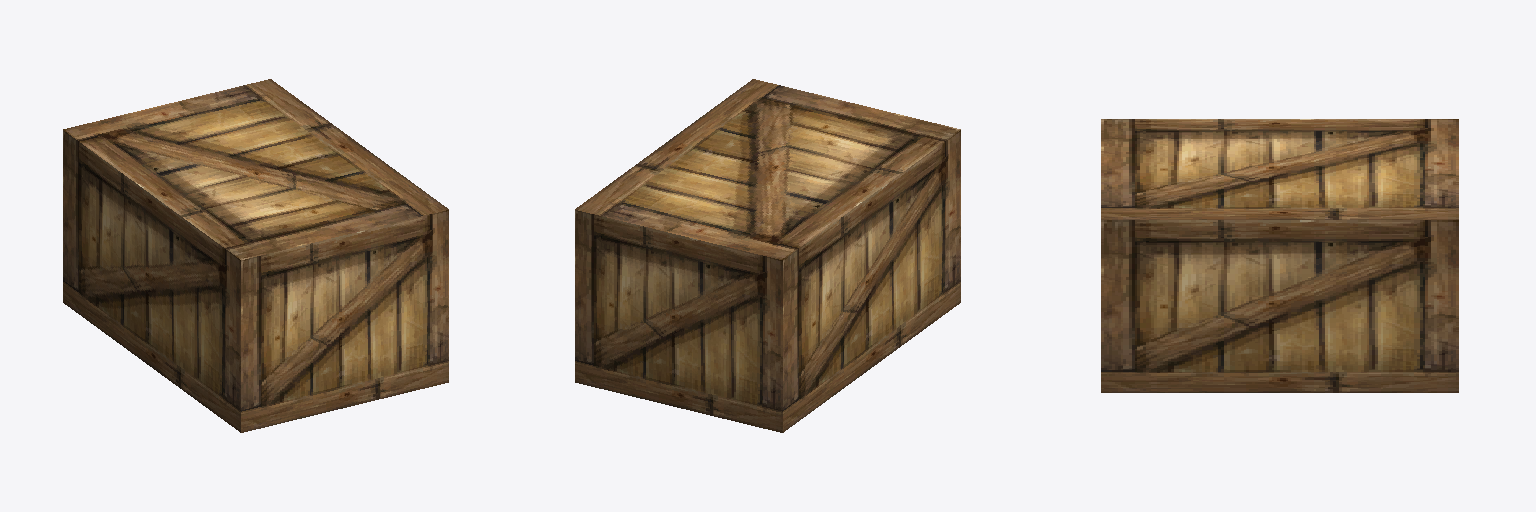
3 views of the same model, side by side, from view 1: azimuth 30°, elevation 25°; view 2: azimuth 150°, elevation 25°; view 3: azimuth 270°, elevation 25° (orthographic).
Parts seen in each view (by area): view 1: replacecrate01.m2; view 2: replacecrate01.m2; view 3: replacecrate01.m2.
Boxes of the visible parts, x1=… form: replacecrate01.m2: x1=63, y1=79, x2=448, y2=432; replacecrate01.m2: x1=575, y1=79, x2=960, y2=432; replacecrate01.m2: x1=1101, y1=119, x2=1458, y2=392.
Bounding box in the file's own units: 0.8002 × 0.6349 × 1.19.
Materials: 1 (1 with a texture image).